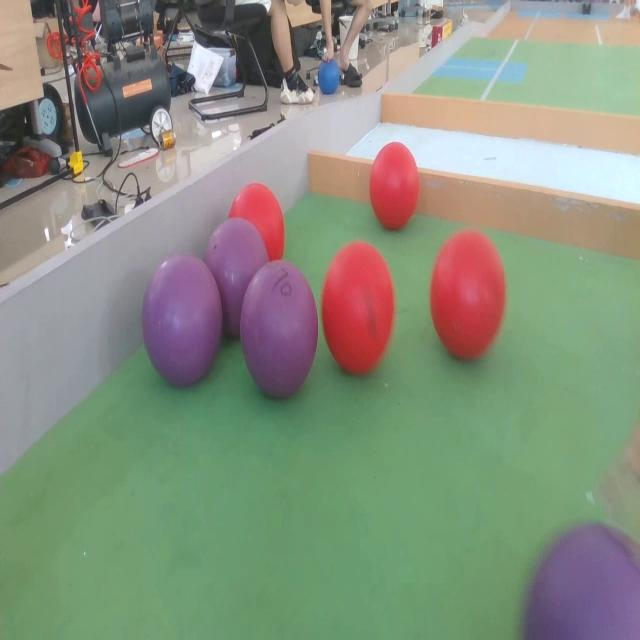invalid: (522, 517, 640, 640), (239, 259, 314, 400), (147, 250, 222, 388), (202, 218, 272, 340)
red: (322, 242, 396, 376), (430, 229, 504, 360), (229, 180, 285, 267), (370, 142, 420, 228)
